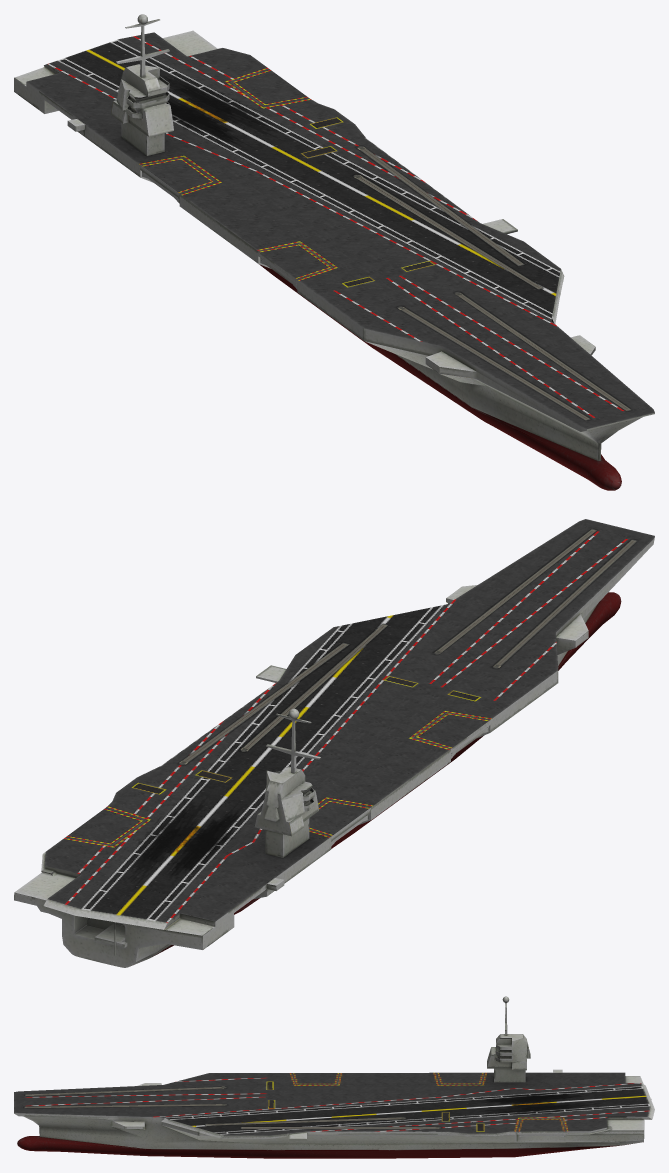
The model's file is CV-5 KAMIKAZE CARRIER.glb.
The picture shows the model from 3 angles, top to bottom: view 1: azimuth 30°, elevation 25°; view 2: azimuth 150°, elevation 25°; view 3: azimuth 270°, elevation 25°; orthographic projection. The views are drawn at different scales.
Visible parts, largest first — view 1: Gerald Body, Elevator2, Elevator1, Elevator3; view 2: Gerald Body, Elevator1, Elevator2, Elevator3; view 3: Gerald Body, Elevator3, Elevator2, Elevator1.
Boxes of the visible parts, x1,y1,x2,y2 form: Gerald Body: [14, 14, 654, 490]; Elevator2: [140, 157, 215, 203]; Elevator1: [258, 243, 332, 289]; Elevator3: [231, 69, 309, 106]; Gerald Body: [14, 519, 654, 967]; Elevator1: [413, 712, 490, 758]; Elevator2: [309, 799, 370, 846]; Elevator3: [65, 807, 145, 845]; Gerald Body: [14, 996, 654, 1158]; Elevator3: [517, 1118, 566, 1136]; Elevator2: [436, 1072, 484, 1084]; Elevator1: [292, 1073, 339, 1084].
Size of the model in its own units: 1336 by 1188 by 5290.
Materials: 1 (1 with a texture image).
